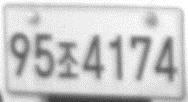1: (108, 35, 126, 82)
4: (152, 35, 178, 83), (81, 33, 106, 79)
5: (33, 32, 55, 77)
7: (128, 34, 153, 83)
9: (9, 31, 31, 78)
조: (56, 41, 80, 79)
